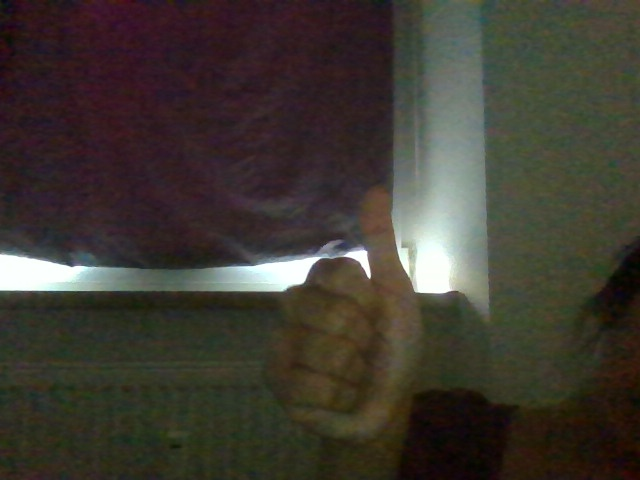Thumbs up: (253, 184, 428, 447)
